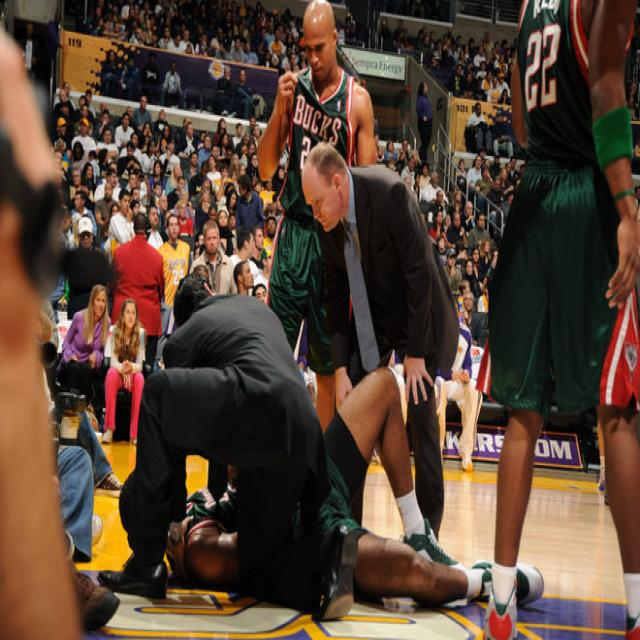10-: (0, 0, 639, 631)
down: (149, 362, 547, 604)
